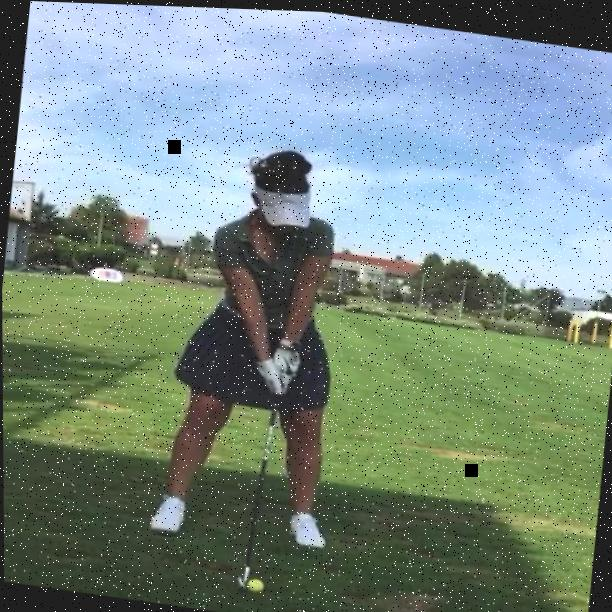ClubHead: (234, 574, 244, 590)
GolfBall: (246, 576, 263, 592)
